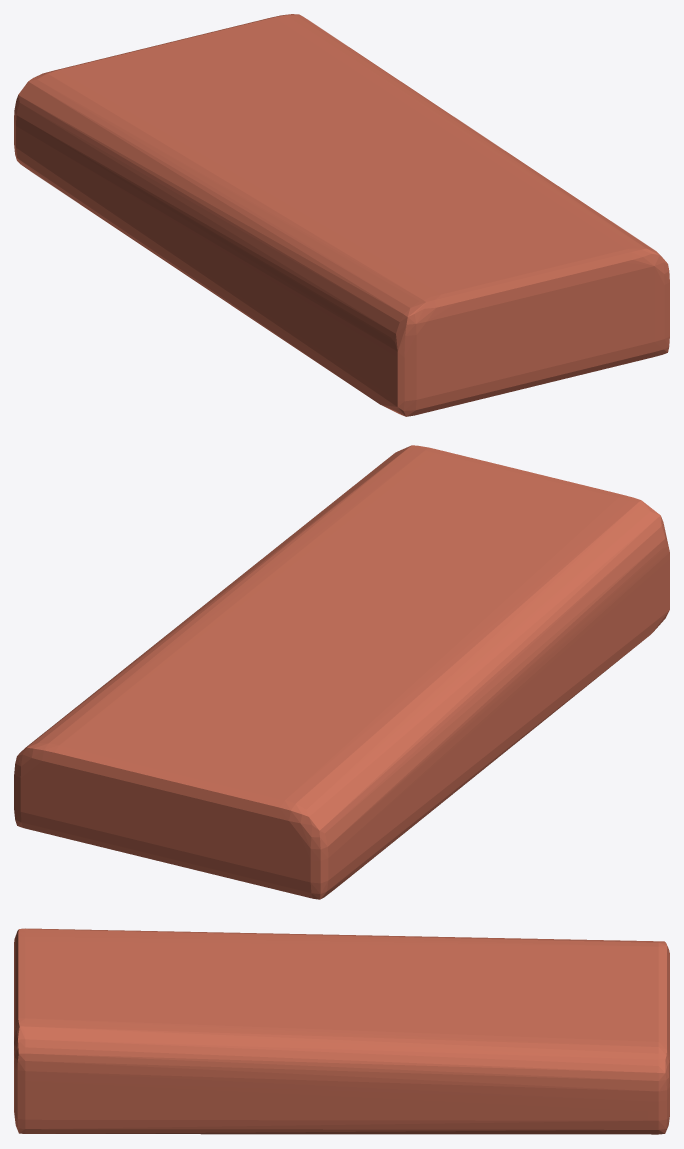
File: right_knee_link_part_9.obj
3 renders of one model, top to bottom at view 1: azimuth 30°, elevation 25°; view 2: azimuth 150°, elevation 25°; view 3: azimuth 270°, elevation 25°, orthographic. The views are drawn at different scales.
Size of the model in its own units: 0.0561 by 0.0199 by 0.1176.
